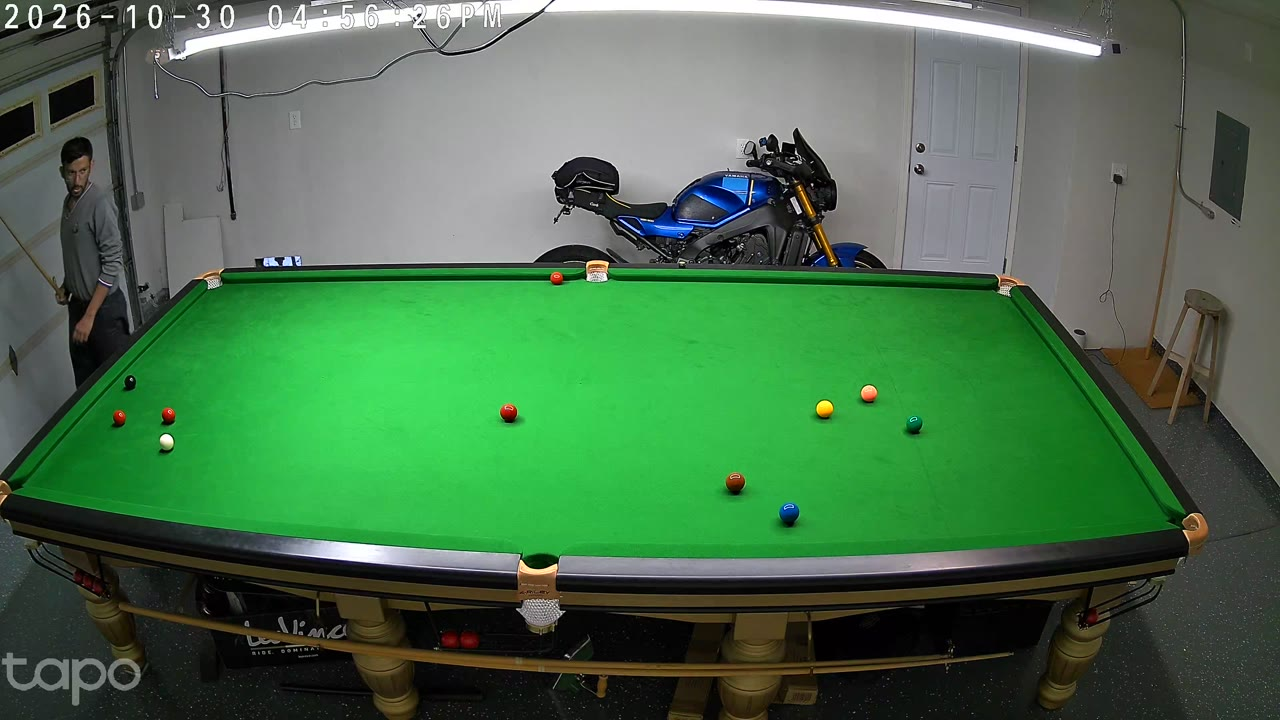black: (124, 374, 136, 393)
blue: (779, 499, 800, 529)
brown: (725, 471, 745, 497)
green: (906, 414, 922, 436)
pink: (860, 384, 876, 404)
red: (500, 402, 517, 424), (113, 409, 125, 428), (163, 407, 175, 426), (551, 271, 562, 287)
white: (160, 432, 174, 454)
yellow: (817, 399, 833, 421)
